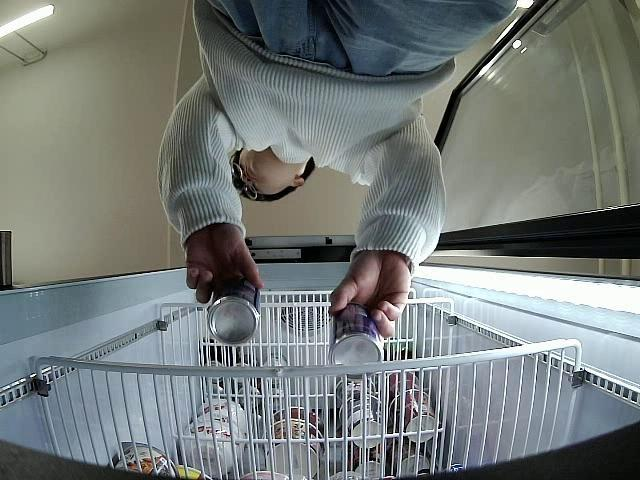16_hot6: (328, 306, 382, 378), (209, 284, 260, 346)
